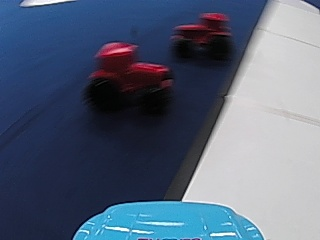tractor: (84, 40, 176, 110), (173, 10, 233, 60)
